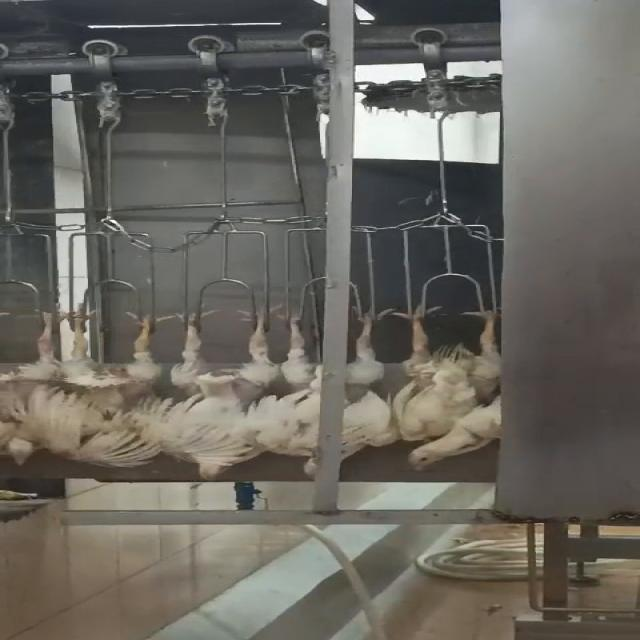chicken: (158, 296, 296, 482), (268, 303, 411, 481), (62, 292, 166, 470), (394, 298, 498, 474), (0, 298, 77, 472)
